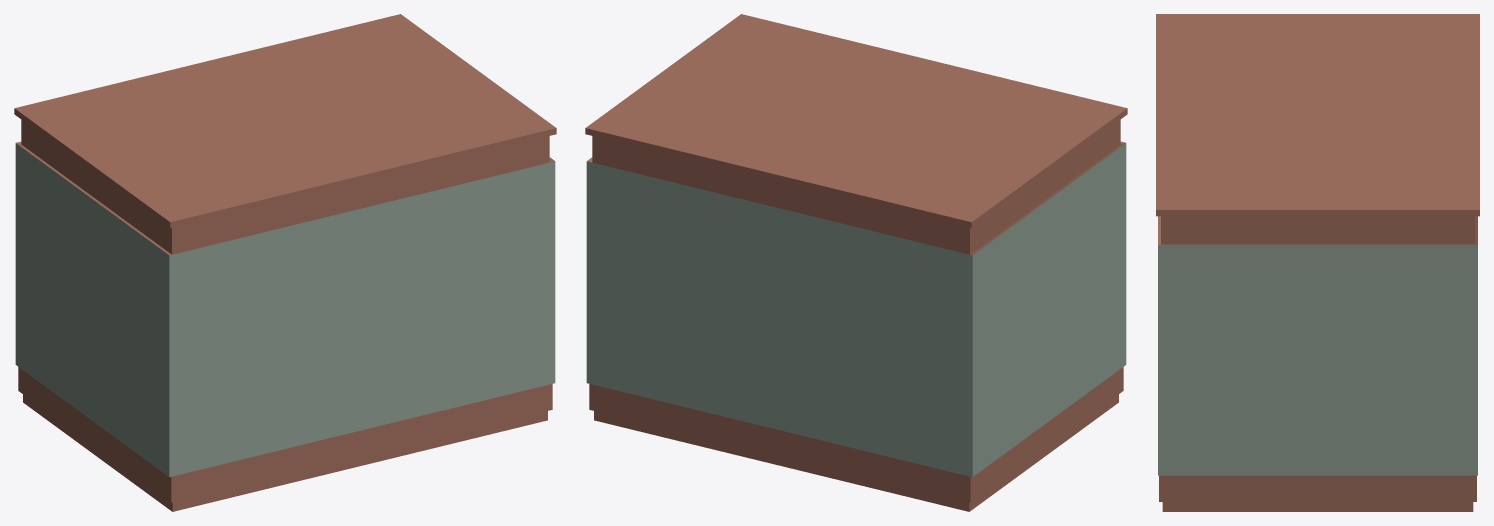
Rendered from bld_block_05.FBX.
3 views of the same model, side by side, from view 1: azimuth 30°, elevation 25°; view 2: azimuth 150°, elevation 25°; view 3: azimuth 270°, elevation 25° (orthographic). The views are drawn at different scales.
Visible parts, largest first — view 1: bld_block_05; view 2: bld_block_05; view 3: bld_block_05.
Part boxes in pixels (bbox=[...]): bld_block_05: bbox=[14, 14, 556, 511]; bld_block_05: bbox=[585, 14, 1127, 511]; bld_block_05: bbox=[1156, 14, 1479, 511].
Size of the model in its own units: 1175 by 852 by 821.
